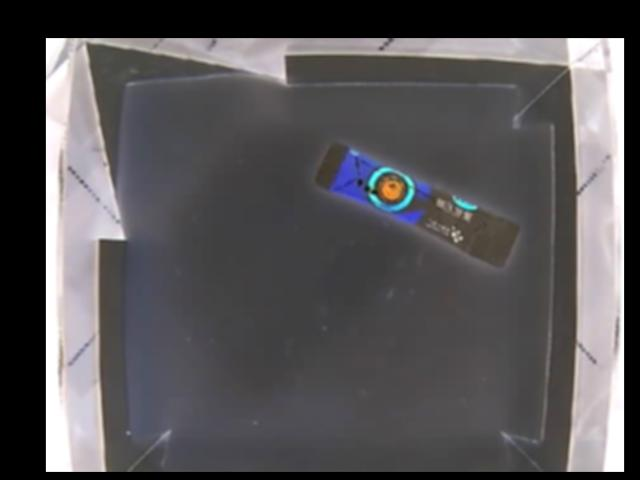Medicine: (315, 143, 519, 269)
